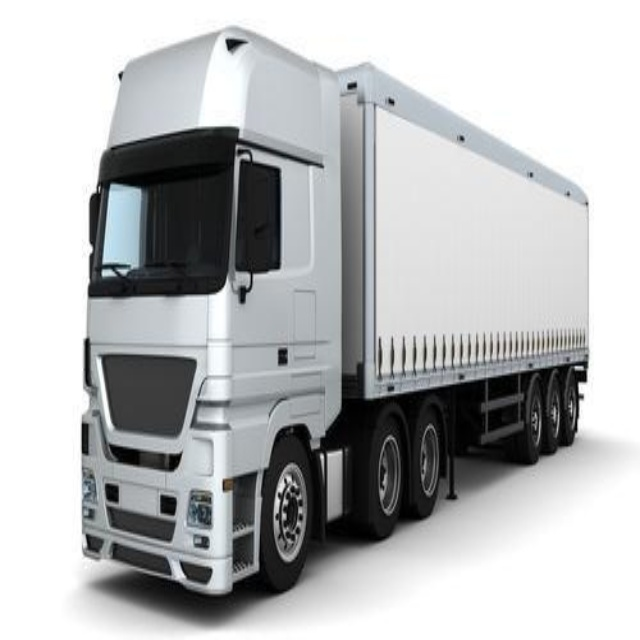Truck: (79, 23, 590, 596)
